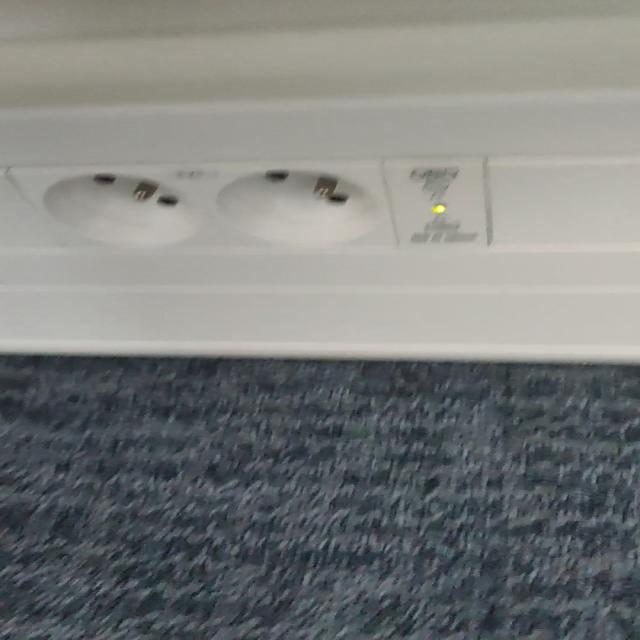house plug: (194, 157, 403, 250), (4, 165, 213, 253)
